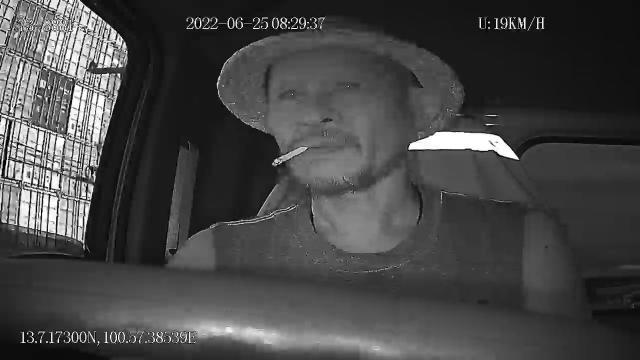Smoking: (272, 144, 310, 166)
